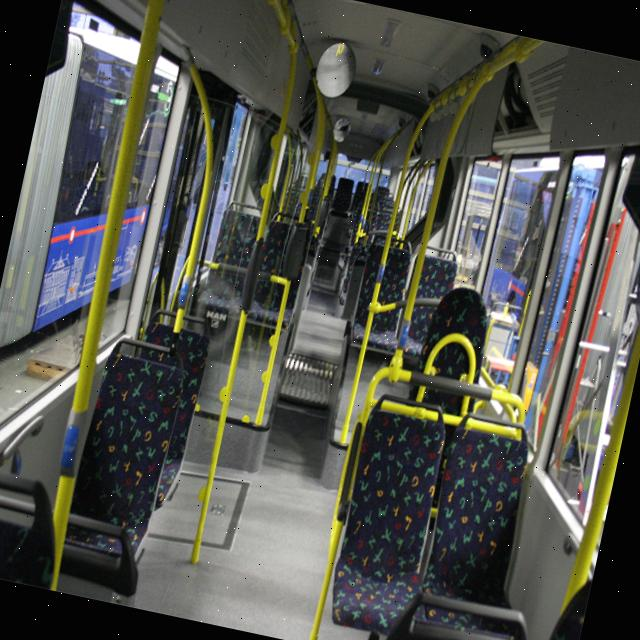empty-seat-frontal: (312, 388, 474, 640), (409, 406, 568, 640), (54, 332, 190, 580), (348, 228, 423, 356)
